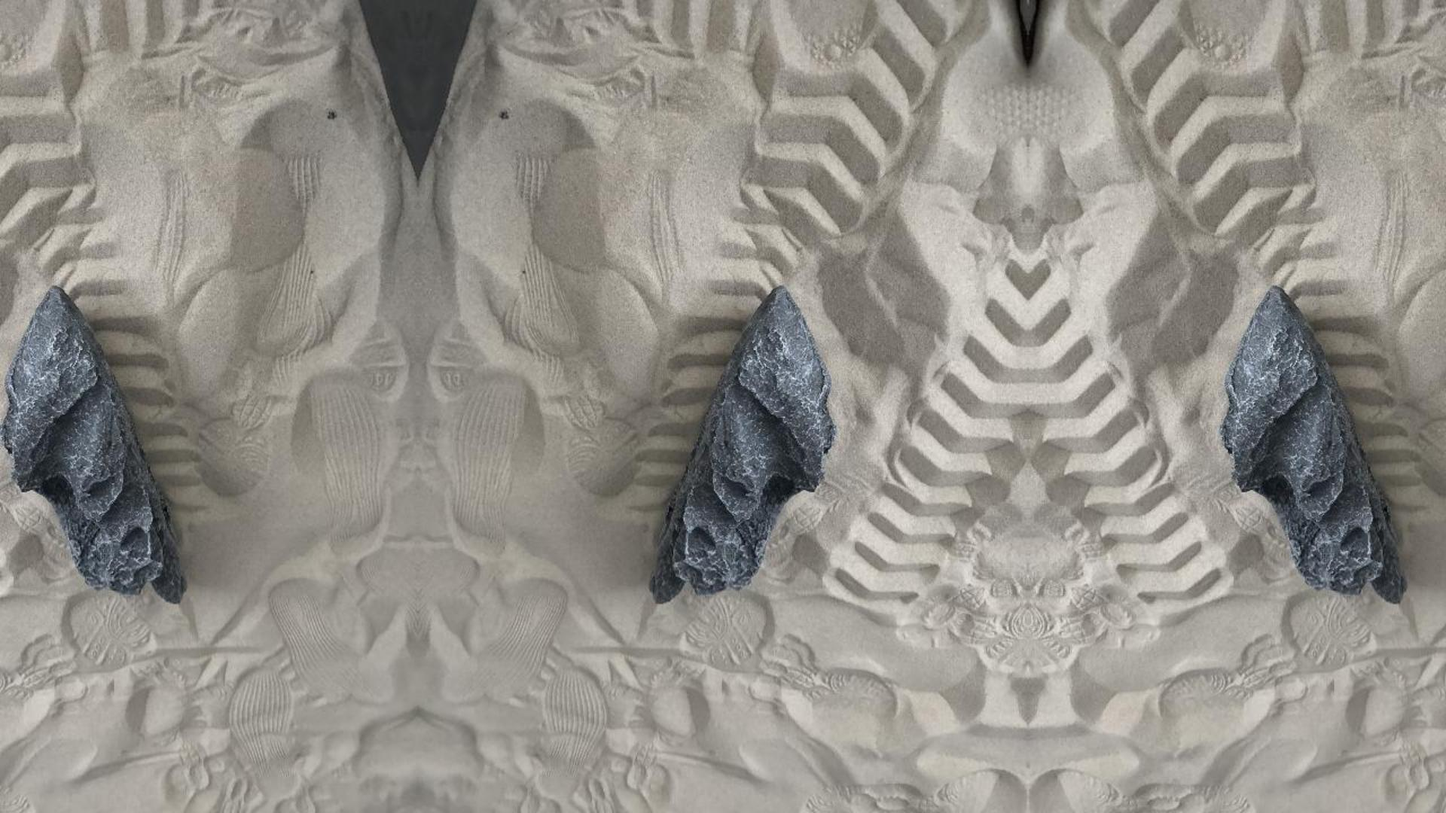rock: (650, 286, 835, 602), (1221, 286, 1405, 602), (3, 287, 185, 602)
